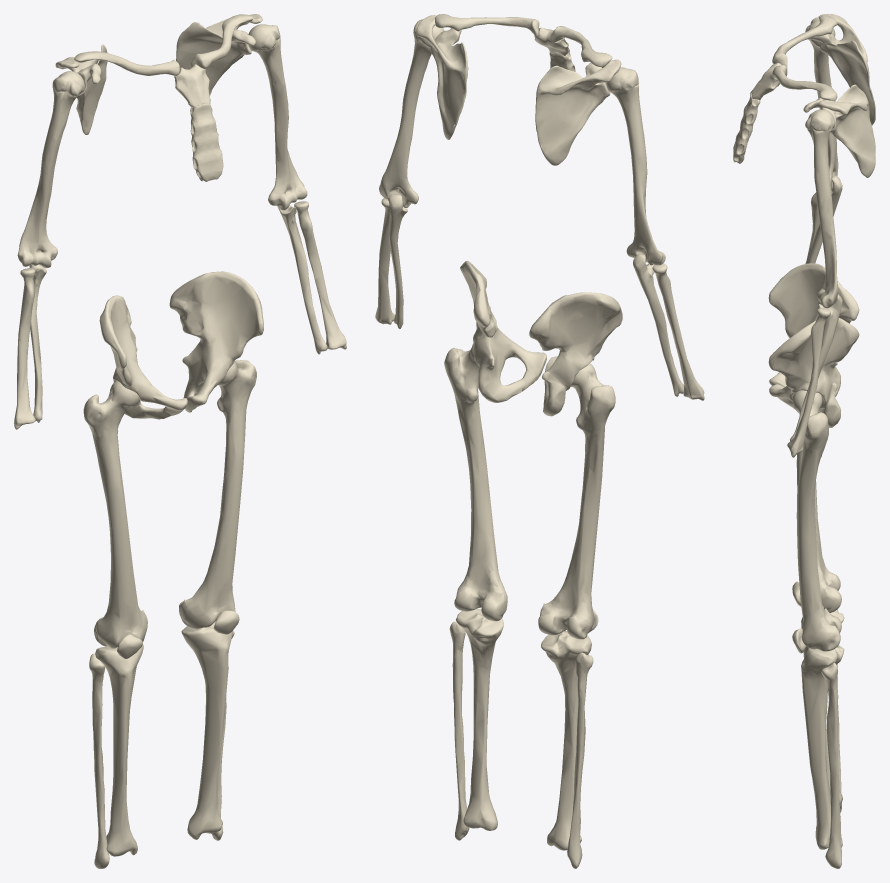
File: zanatomy-limbbones.glb
The picture shows the model from 3 angles, left to right: view 1: azimuth 30°, elevation 25°; view 2: azimuth 150°, elevation 25°; view 3: azimuth 270°, elevation 25°; orthographic projection. The views are drawn at different scales.
Parts seen in each view (by area): view 1: za_hipbone_1, za_femur_2, za_femur_1, za_tibia_1, za_tibia_2, za_humerus_2, za_hipbone_2, za_humerus_1, za_scapula_1, za_fibula_2, za_sternum_1, za_radius_2 (+7 smaller); view 2: za_femur_2, za_femur_1, za_hipbone_2, za_scapula_2, za_tibia_1, za_hipbone_1, za_tibia_2, za_humerus_2, za_humerus_1, za_scapula_1, za_fibula_2, za_fibula_1 (+6 smaller); view 3: za_femur_1, za_tibia_1, za_hipbone_1, za_hipbone_2, za_humerus_1, za_scapula_1, za_scapula_2, za_fibula_1, za_radius_1, za_femur_2, za_humerus_2, za_ulna_1 (+7 smaller).
Boxes of the visible parts, <box> form: za_hipbone_1: <box>169,271,263,412</box>; za_femur_2: <box>83,380,147,648</box>; za_femur_1: <box>179,360,256,628</box>; za_tibia_1: <box>181,621,232,839</box>; za_tibia_2: <box>95,644,143,856</box>; za_humerus_2: <box>17,71,84,268</box>; za_hipbone_2: <box>99,295,187,419</box>; za_humerus_1: <box>248,24,307,210</box>; za_scapula_1: <box>176,14,262,95</box>; za_fibula_2: <box>89,653,109,868</box>; za_sternum_1: <box>190,102,223,181</box>; za_radius_2: <box>14,268,35,429</box>; za_femur_2: <box>538,363,615,639</box>; za_femur_1: <box>444,344,507,621</box>; za_hipbone_2: <box>529,292,622,416</box>; za_scapula_2: <box>535,59,621,165</box>; za_tibia_1: <box>456,608,503,830</box>; za_hipbone_1: <box>460,260,546,402</box>; za_tibia_2: <box>541,630,591,850</box>; za_humerus_2: <box>606,67,665,265</box>; za_humerus_1: <box>379,19,444,207</box>; za_scapula_1: <box>416,15,468,139</box>; za_fibula_2: <box>567,652,593,868</box>; za_fibula_1: <box>449,621,469,840</box>; za_femur_1: <box>792,390,841,651</box>; za_tibia_1: <box>801,645,844,849</box>; za_hipbone_1: <box>768,318,859,427</box>; za_hipbone_2: <box>768,263,859,396</box>; za_humerus_1: <box>805,109,838,308</box>; za_scapula_1: <box>803,84,875,177</box>; za_scapula_2: <box>808,14,875,125</box>; za_fibula_1: <box>821,662,841,868</box>; za_radius_1: <box>787,307,830,457</box>; za_femur_2: <box>796,414,841,612</box>; za_humerus_2: <box>805,17,838,190</box>; za_ulna_1: <box>790,294,842,440</box>.
Size of the model in its own units: 0.5773 by 1.37 by 0.225.
